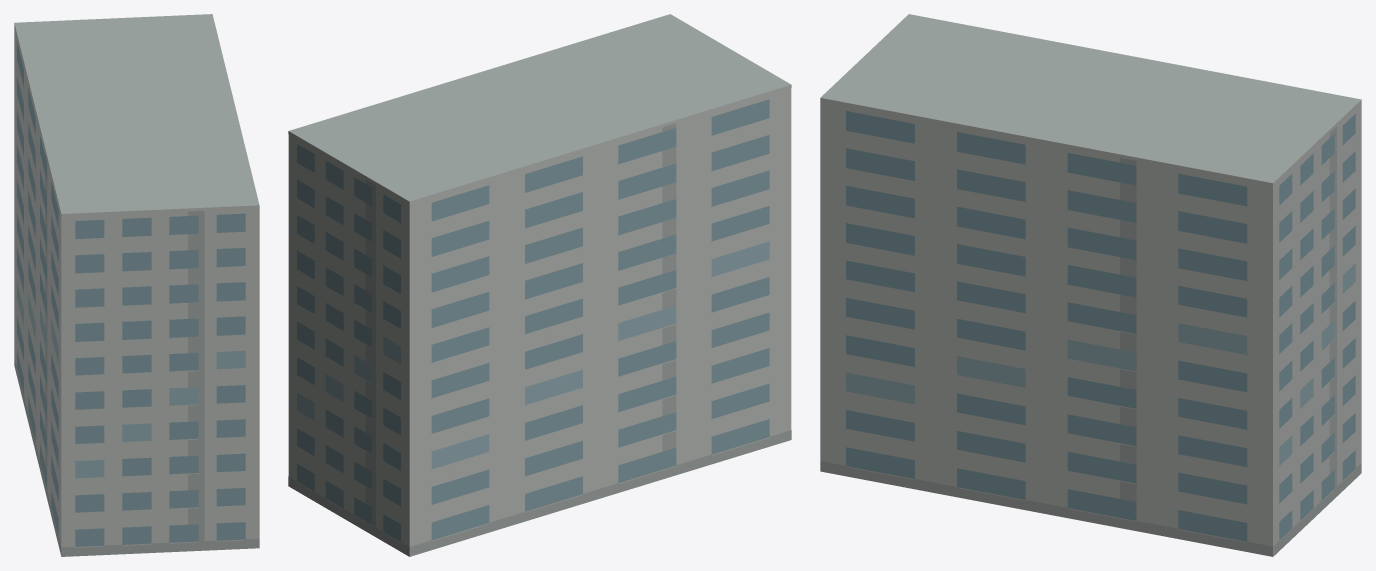
The model's file is residential-656380eb-d047-4f39-bc96-71fb7d140c83.glb.
3 renders of one model, left to right at view 1: azimuth 30°, elevation 25°; view 2: azimuth 150°, elevation 25°; view 3: azimuth 270°, elevation 25°, orthographic. The views are drawn at different scales.
Visible parts, largest first — view 1: residential-656380eb-d047-4f39-bc96-71fb7d140c83.tmp; view 2: residential-656380eb-d047-4f39-bc96-71fb7d140c83.tmp; view 3: residential-656380eb-d047-4f39-bc96-71fb7d140c83.tmp.
Part boxes in pixels (left/top/right/bottom): residential-656380eb-d047-4f39-bc96-71fb7d140c83.tmp: left=14, top=14, right=259, bottom=556; residential-656380eb-d047-4f39-bc96-71fb7d140c83.tmp: left=288, top=14, right=791, bottom=556; residential-656380eb-d047-4f39-bc96-71fb7d140c83.tmp: left=820, top=14, right=1361, bottom=556.
Size of the model in its own units: 26.24 by 27 by 35.47.
